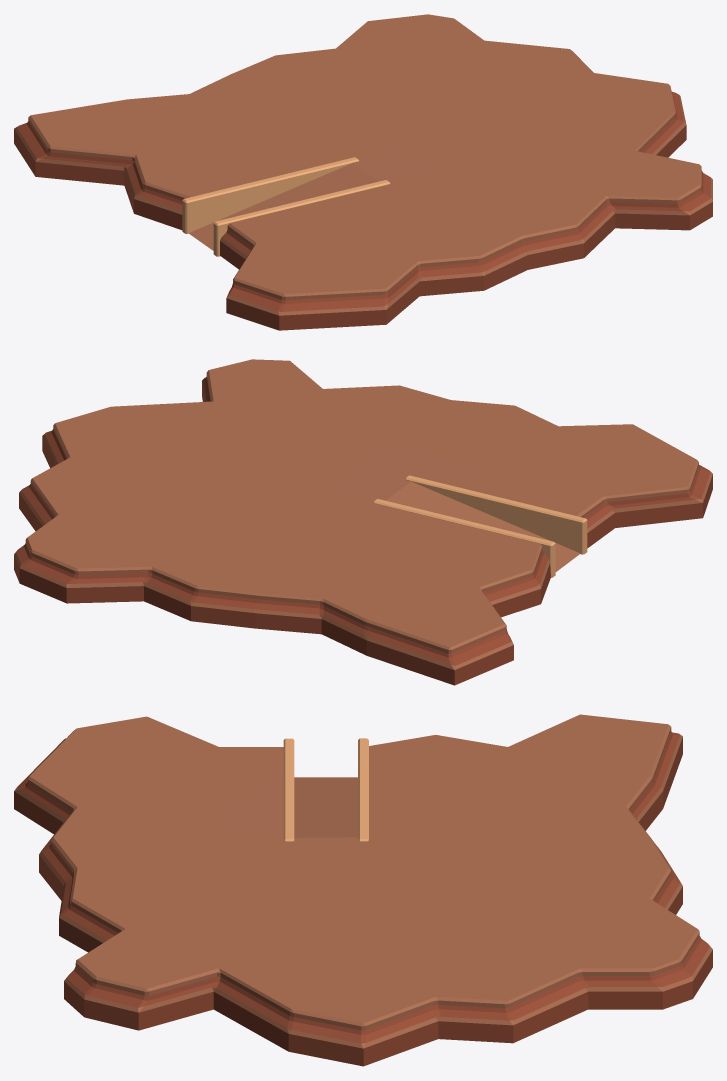
Rendered from Plateau_01.fbx.
The picture shows the model from 3 angles, top to bottom: view 1: azimuth 30°, elevation 25°; view 2: azimuth 150°, elevation 25°; view 3: azimuth 270°, elevation 25°; orthographic projection. The views are drawn at different scales.
Parts seen in each view (by area): view 1: Plateau, Wall-1, Wall-2; view 2: Plateau, Wall-2, Wall-1; view 3: Plateau, Wall-2, Wall-1.
Part boxes in pixels (bbox=[...]): Plateau: bbox=[14, 14, 712, 330]; Wall-1: bbox=[182, 157, 359, 233]; Wall-2: bbox=[213, 180, 390, 256]; Plateau: bbox=[14, 359, 712, 685]; Wall-2: bbox=[405, 475, 587, 554]; Wall-1: bbox=[373, 499, 555, 577]; Plateau: bbox=[14, 714, 712, 1066]; Wall-2: bbox=[283, 738, 294, 841]; Wall-1: bbox=[358, 738, 368, 841].
Size of the model in its own units: 1530 by 85.81 by 1400.
